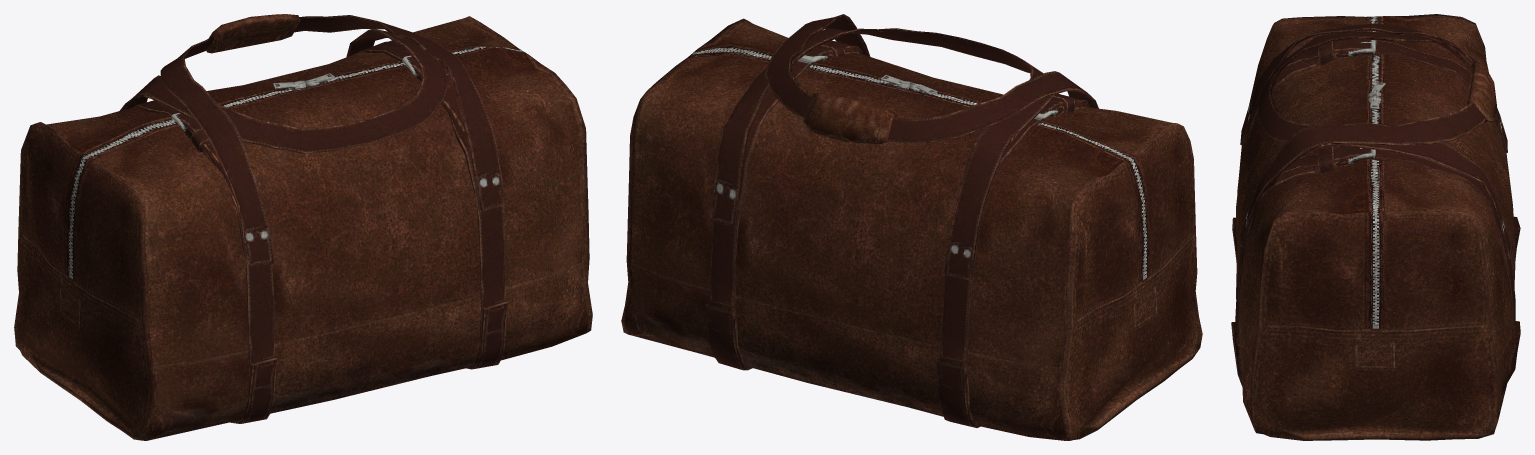
Rendered from 045_bostonbag01a.fbx.
3 renders of one model, left to right at view 1: azimuth 30°, elevation 25°; view 2: azimuth 150°, elevation 25°; view 3: azimuth 270°, elevation 25°, orthographic. The views are drawn at different scales.
Parts seen in each view (by area): view 1: LOD_1_Group_0_Sub_1__sm32_045_BostonBag01A_A_Mat, LOD_1_Group_2_Sub_1__sm32_045_BostonBag01A_A_Mat, LOD_1_Group_4_Sub_1__sm32_045_BostonBag01A_A_Mat, LOD_1_Group_3_Sub_1__sm32_045_BostonBag01A_A_Mat; view 2: LOD_1_Group_0_Sub_1__sm32_045_BostonBag01A_A_Mat, LOD_1_Group_2_Sub_1__sm32_045_BostonBag01A_A_Mat, LOD_1_Group_4_Sub_1__sm32_045_BostonBag01A_A_Mat, LOD_1_Group_3_Sub_1__sm32_045_BostonBag01A_A_Mat; view 3: LOD_1_Group_0_Sub_1__sm32_045_BostonBag01A_A_Mat, LOD_1_Group_2_Sub_1__sm32_045_BostonBag01A_A_Mat, LOD_1_Group_4_Sub_1__sm32_045_BostonBag01A_A_Mat, LOD_1_Group_3_Sub_1__sm32_045_BostonBag01A_A_Mat, LOD_1_Group_1_Sub_1__sm32_045_BostonBag01A_A_Mat.
Part boxes in pixels (x1,y1,x2,y2): LOD_1_Group_0_Sub_1__sm32_045_BostonBag01A_A_Mat: [14, 16, 592, 440]; LOD_1_Group_2_Sub_1__sm32_045_BostonBag01A_A_Mat: [120, 15, 504, 266]; LOD_1_Group_4_Sub_1__sm32_045_BostonBag01A_A_Mat: [133, 41, 508, 423]; LOD_1_Group_3_Sub_1__sm32_045_BostonBag01A_A_Mat: [206, 14, 300, 53]; LOD_1_Group_0_Sub_1__sm32_045_BostonBag01A_A_Mat: [621, 18, 1202, 440]; LOD_1_Group_2_Sub_1__sm32_045_BostonBag01A_A_Mat: [710, 14, 1098, 280]; LOD_1_Group_4_Sub_1__sm32_045_BostonBag01A_A_Mat: [705, 40, 1090, 427]; LOD_1_Group_3_Sub_1__sm32_045_BostonBag01A_A_Mat: [803, 93, 896, 143]; LOD_1_Group_0_Sub_1__sm32_045_BostonBag01A_A_Mat: [1236, 14, 1515, 440]; LOD_1_Group_2_Sub_1__sm32_045_BostonBag01A_A_Mat: [1239, 23, 1513, 259]; LOD_1_Group_4_Sub_1__sm32_045_BostonBag01A_A_Mat: [1231, 39, 1520, 387]; LOD_1_Group_3_Sub_1__sm32_045_BostonBag01A_A_Mat: [1466, 61, 1496, 123]; LOD_1_Group_1_Sub_1__sm32_045_BostonBag01A_A_Mat: [1368, 82, 1385, 108].
Bounding box in the file's own units: 0.7634 × 0.4491 × 0.4332.
